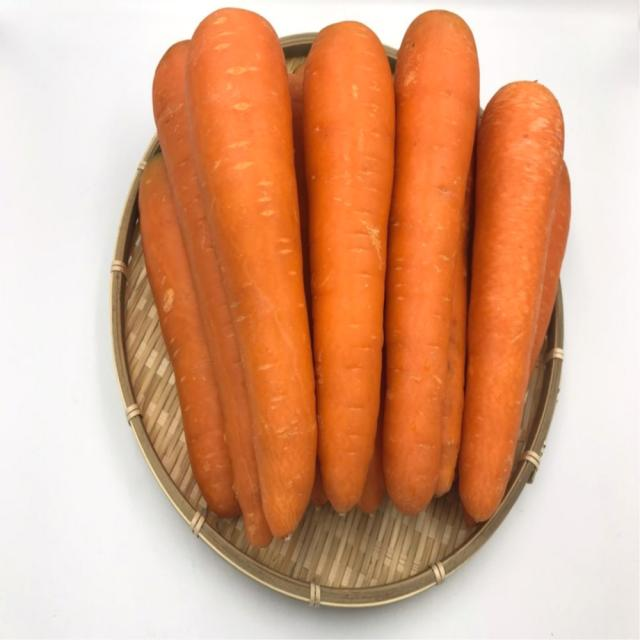carrot: (184, 5, 316, 540), (382, 4, 482, 518), (456, 76, 566, 531), (303, 18, 393, 517)
